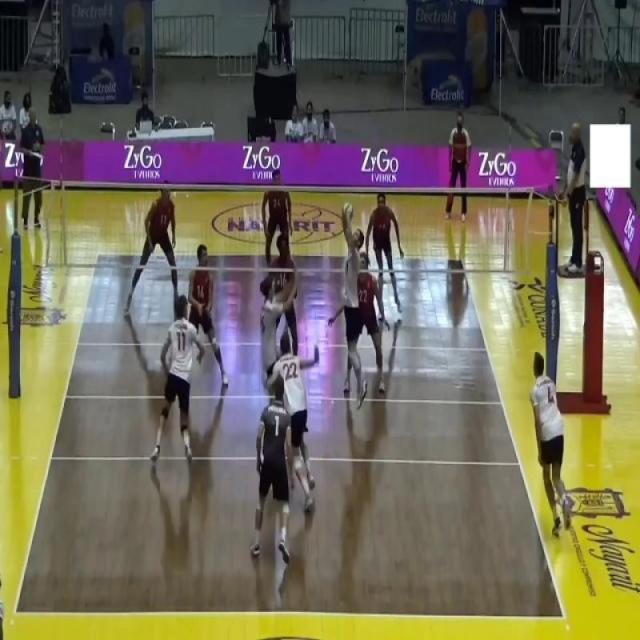volleyball: (342, 202, 354, 222)
